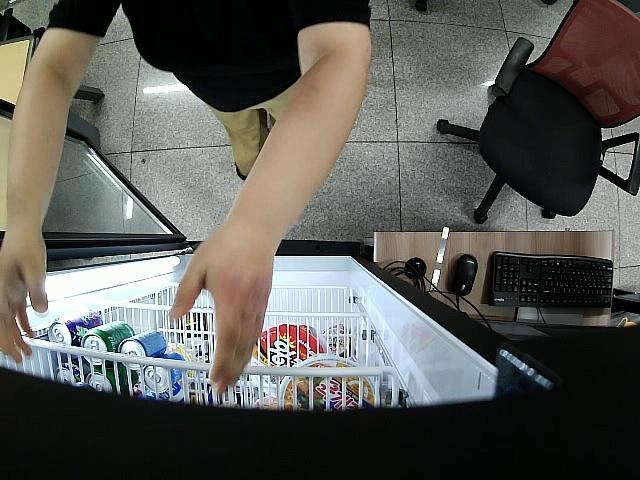00_hand: (167, 231, 271, 391), (0, 230, 48, 363)
